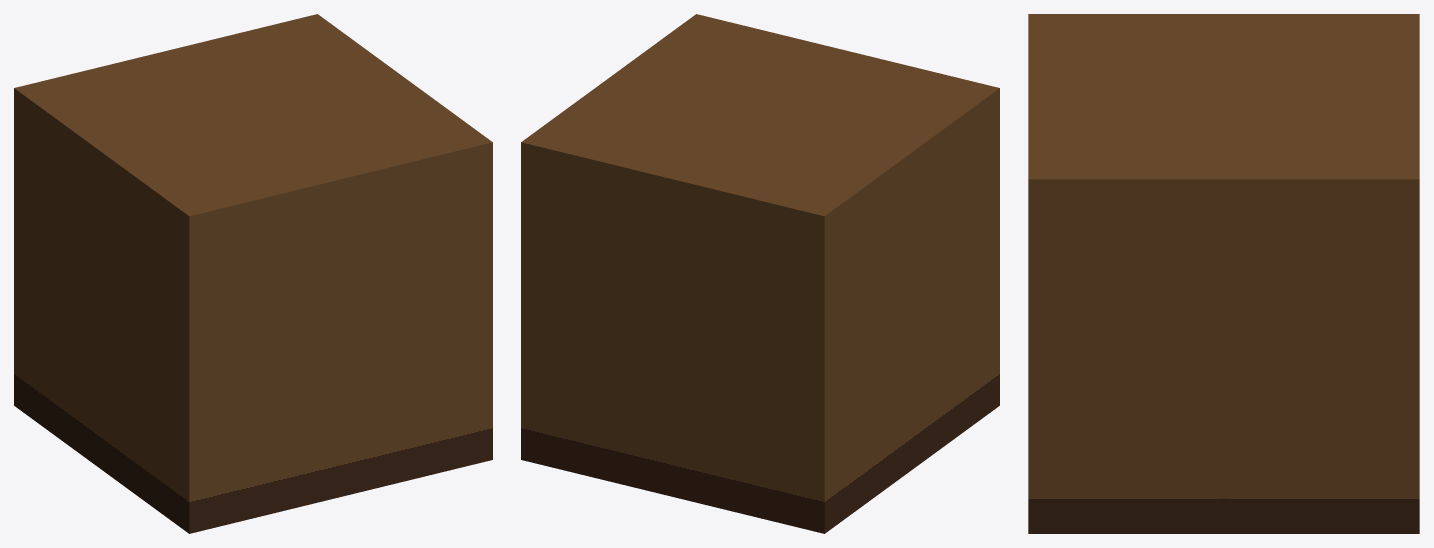
Rendered from single-low.obj.
3 renders of one model, left to right at view 1: azimuth 30°, elevation 25°; view 2: azimuth 150°, elevation 25°; view 3: azimuth 270°, elevation 25°, orthographic. The views are drawn at different scales.
Visible parts, largest first — view 1: block; view 2: block; view 3: block.
Boxes of the visible parts, x1=… form: block: x1=14, y1=14, x2=492, y2=533; block: x1=521, y1=14, x2=999, y2=533; block: x1=1028, y1=14, x2=1419, y2=533.
Size of the model in its own units: 2 by 2 by 2.
1 material, 1 textured.
